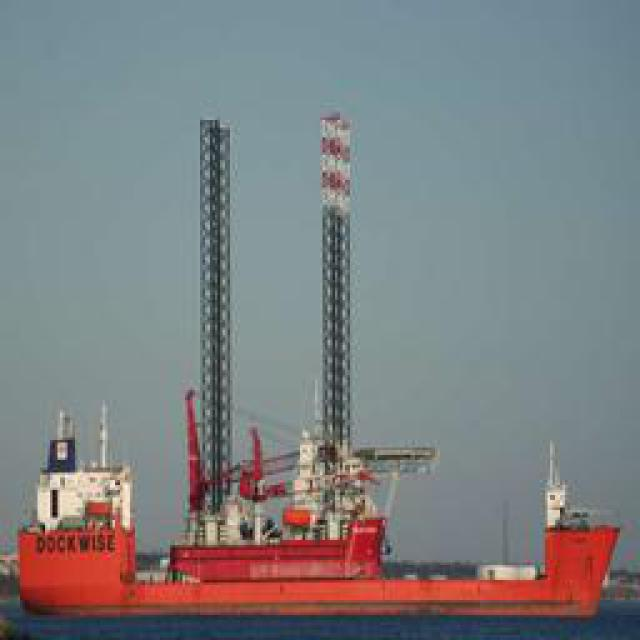Ship: (10, 419, 623, 632)
